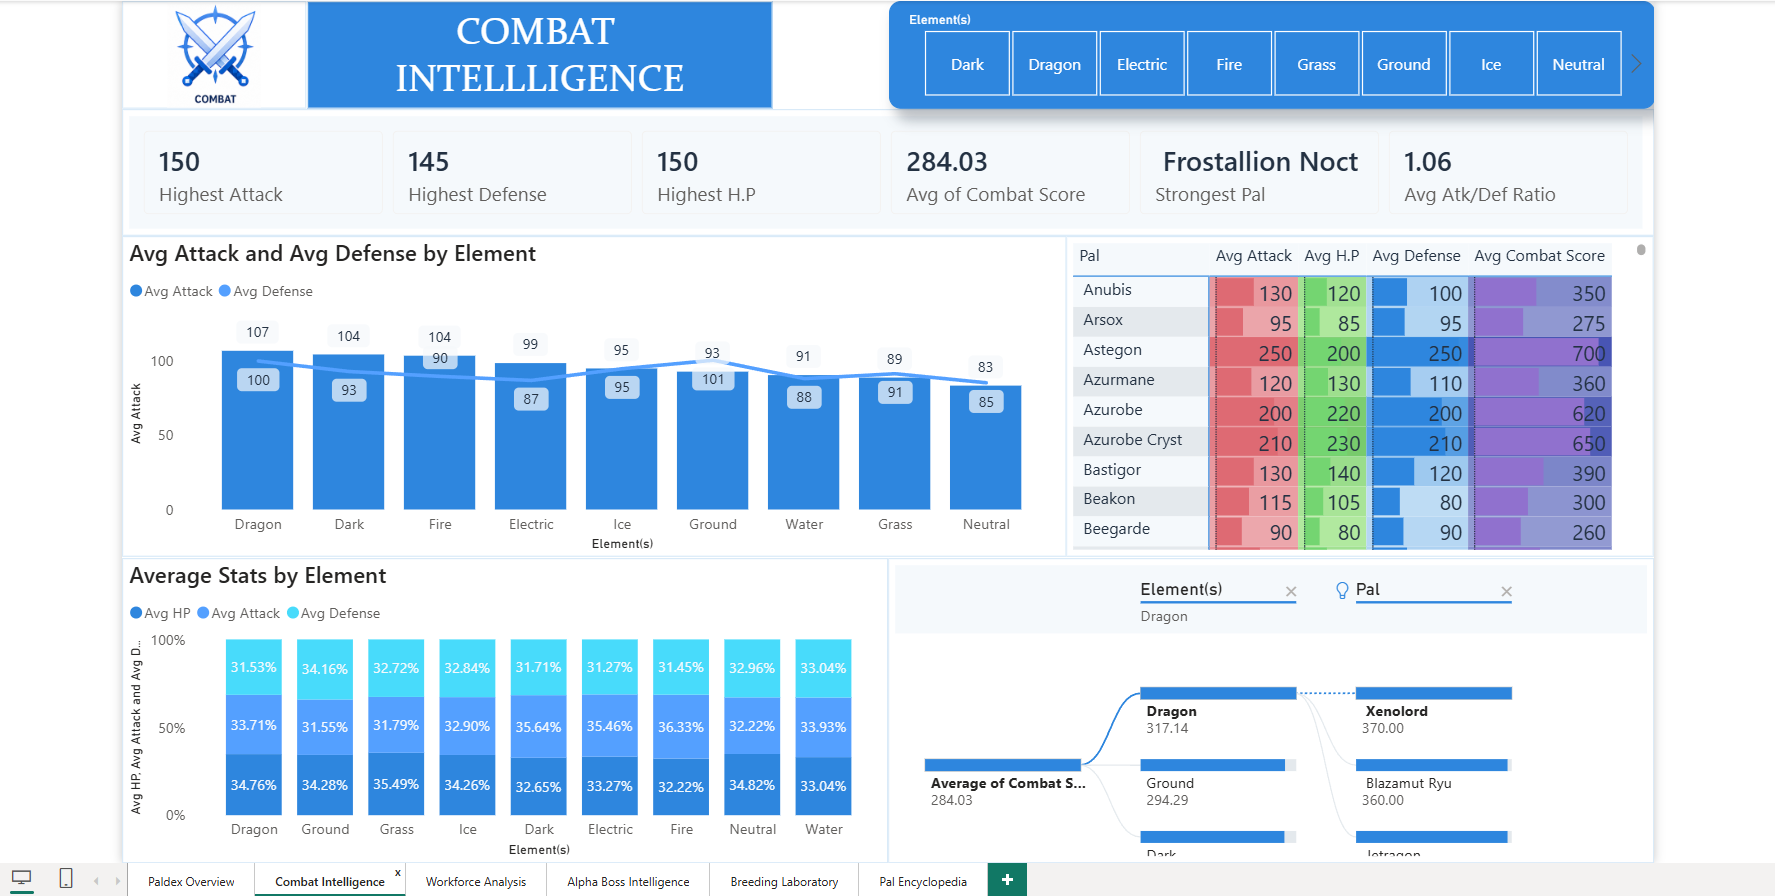

Layout of this report page (visuals, bound fields, positions):
{"tool":"powerbi","page":{"name":"Combat Intelligence","canvas":[1280,720],"ordinal":1},"visuals":[{"type":"cardVisual","fields":{"Data":["Paldex.Highest Attack","Paldex.Highest Defense","Paldex.Highest H.P","Avg(Paldex.Combat Score)","Paldex.Strongest Pal","Paldex.Avg Attack/Defense Ratio"]},"box":[0,90.4,1280,106.1],"z":0},{"type":"decompositionTreeVisual","fields":{"Analyze":["Avg(Paldex.Combat Score)"],"ExplainBy":["Paldex.Element(s)","Paldex.Pal"]},"box":[640,464.9,640,254.8],"z":1000},{"type":"hundredPercentStackedColumnChart","title":"Average Stats by Element","fields":{"Category":["Paldex.Element(s)"],"Y":["Paldex.Avg HP","Paldex.Avg Attack","Paldex.Avg Defense"]},"box":[0,464.9,640,254.8],"z":2000},{"type":"pivotTable","fields":{"Rows":["Paldex.Pal"],"Values":["Sum(Paldex.Attack)","Sum(Paldex.H.P)","Sum(Paldex.Defense)","Sum(Paldex.Combat Score)"]},"box":[788.8,196.5,491.2,268.4],"z":3000},{"type":"lineStackedColumnComboChart","title":"Avg Attack and Avg Defense by Element","fields":{"Category":["Paldex.Element(s)"],"Y":["Paldex.Avg Attack"],"Y2":["Paldex.Avg Defense"]},"box":[0,196.5,788.8,268.4],"z":4000},{"type":"textbox","box":[154.3,0,389.3,90.4],"z":4001},{"type":"image","box":[0,0,154.3,90.4],"z":4002},{"type":"slicer","fields":{"Values":["Paldex.Element(s)"]},"box":[640.5,0,639.5,90.4],"z":4003}]}

Visuals, with their boxes on the page's 1280x720 design canvas (x1, y1, x2, y2). These are canvas units, not pixel positions in the 1775x896 screenshot, which may show the page scaled, cropped or inside an application window:
cardVisual - Paldex.Highest Attack x Paldex.Highest Defense: <bbox>0, 90, 1280, 196</bbox>
decompositionTreeVisual - Avg(Paldex.Combat Score) x Paldex.Element(s): <bbox>640, 465, 1280, 720</bbox>
"Average Stats by Element" hundredPercentStackedColumnChart: <bbox>0, 465, 640, 720</bbox>
pivotTable - Paldex.Pal x Sum(Paldex.Attack): <bbox>789, 196, 1280, 465</bbox>
"Avg Attack and Avg Defense by Element" lineStackedColumnComboChart: <bbox>0, 196, 789, 465</bbox>
textbox: <bbox>154, 0, 544, 90</bbox>
image: <bbox>0, 0, 154, 90</bbox>
slicer - Paldex.Element(s): <bbox>640, 0, 1280, 90</bbox>
